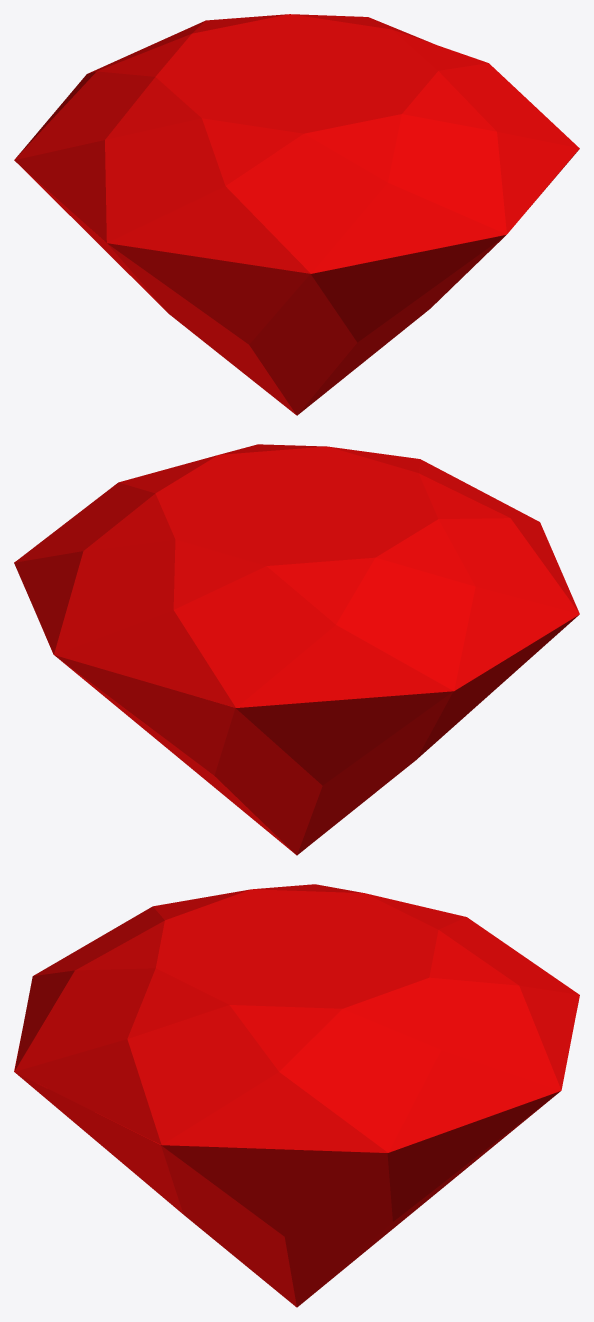
The model's file is RedDiamond.fbx.
The picture shows the model from 3 angles, top to bottom: view 1: azimuth 30°, elevation 25°; view 2: azimuth 150°, elevation 25°; view 3: azimuth 270°, elevation 25°; orthographic projection. The views are drawn at different scales.
Parts seen in each view (by area): view 1: polySurface114; view 2: polySurface114; view 3: polySurface114.
Boxes of the visible parts, box(x1,y1,x2,y2) form: polySurface114: box(14, 14, 579, 415); polySurface114: box(14, 444, 579, 855); polySurface114: box(14, 884, 579, 1307).
Bounding box in the file's own units: 6.46 × 4.52 × 6.46.
